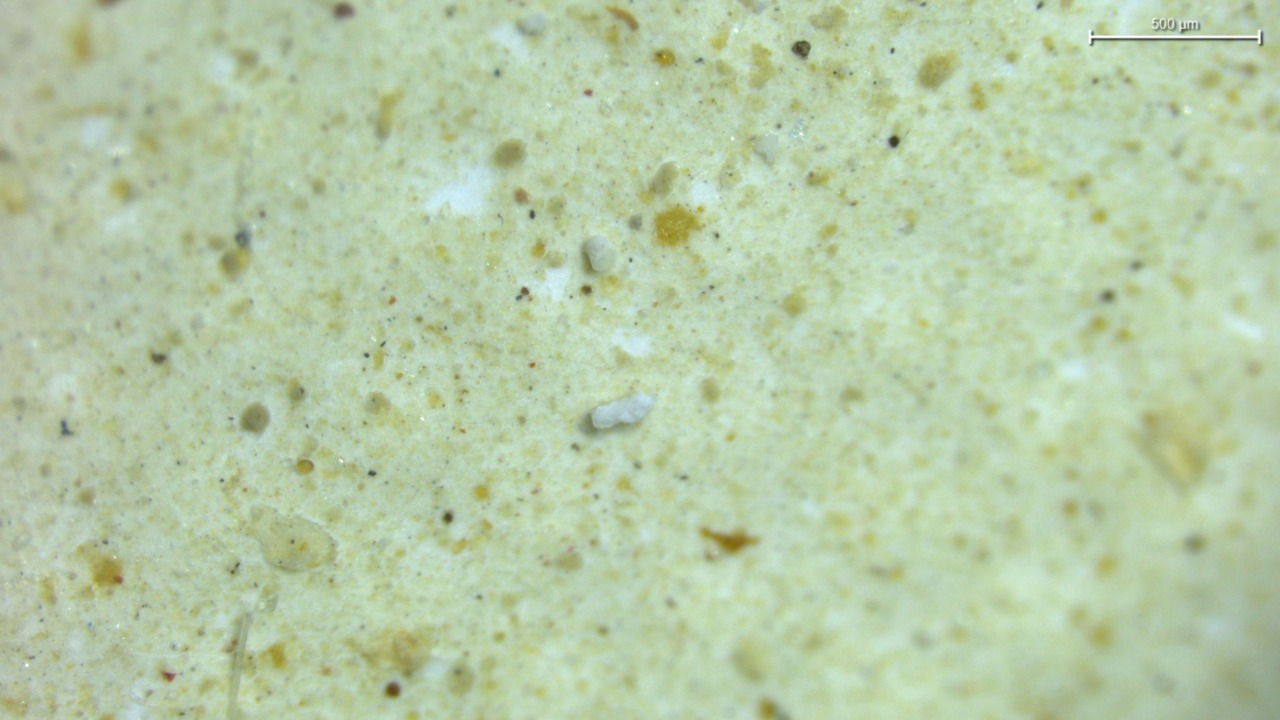microplastic_fragment: (590, 392, 655, 429), (582, 235, 617, 272)
